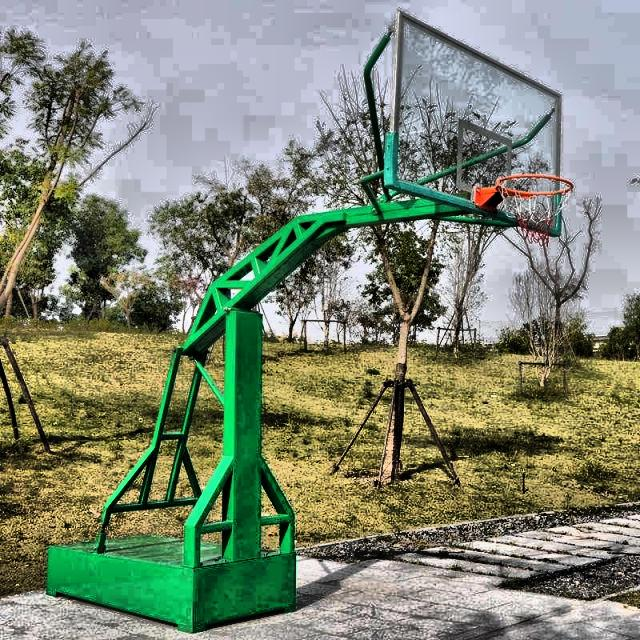rim: (500, 174, 573, 245)
